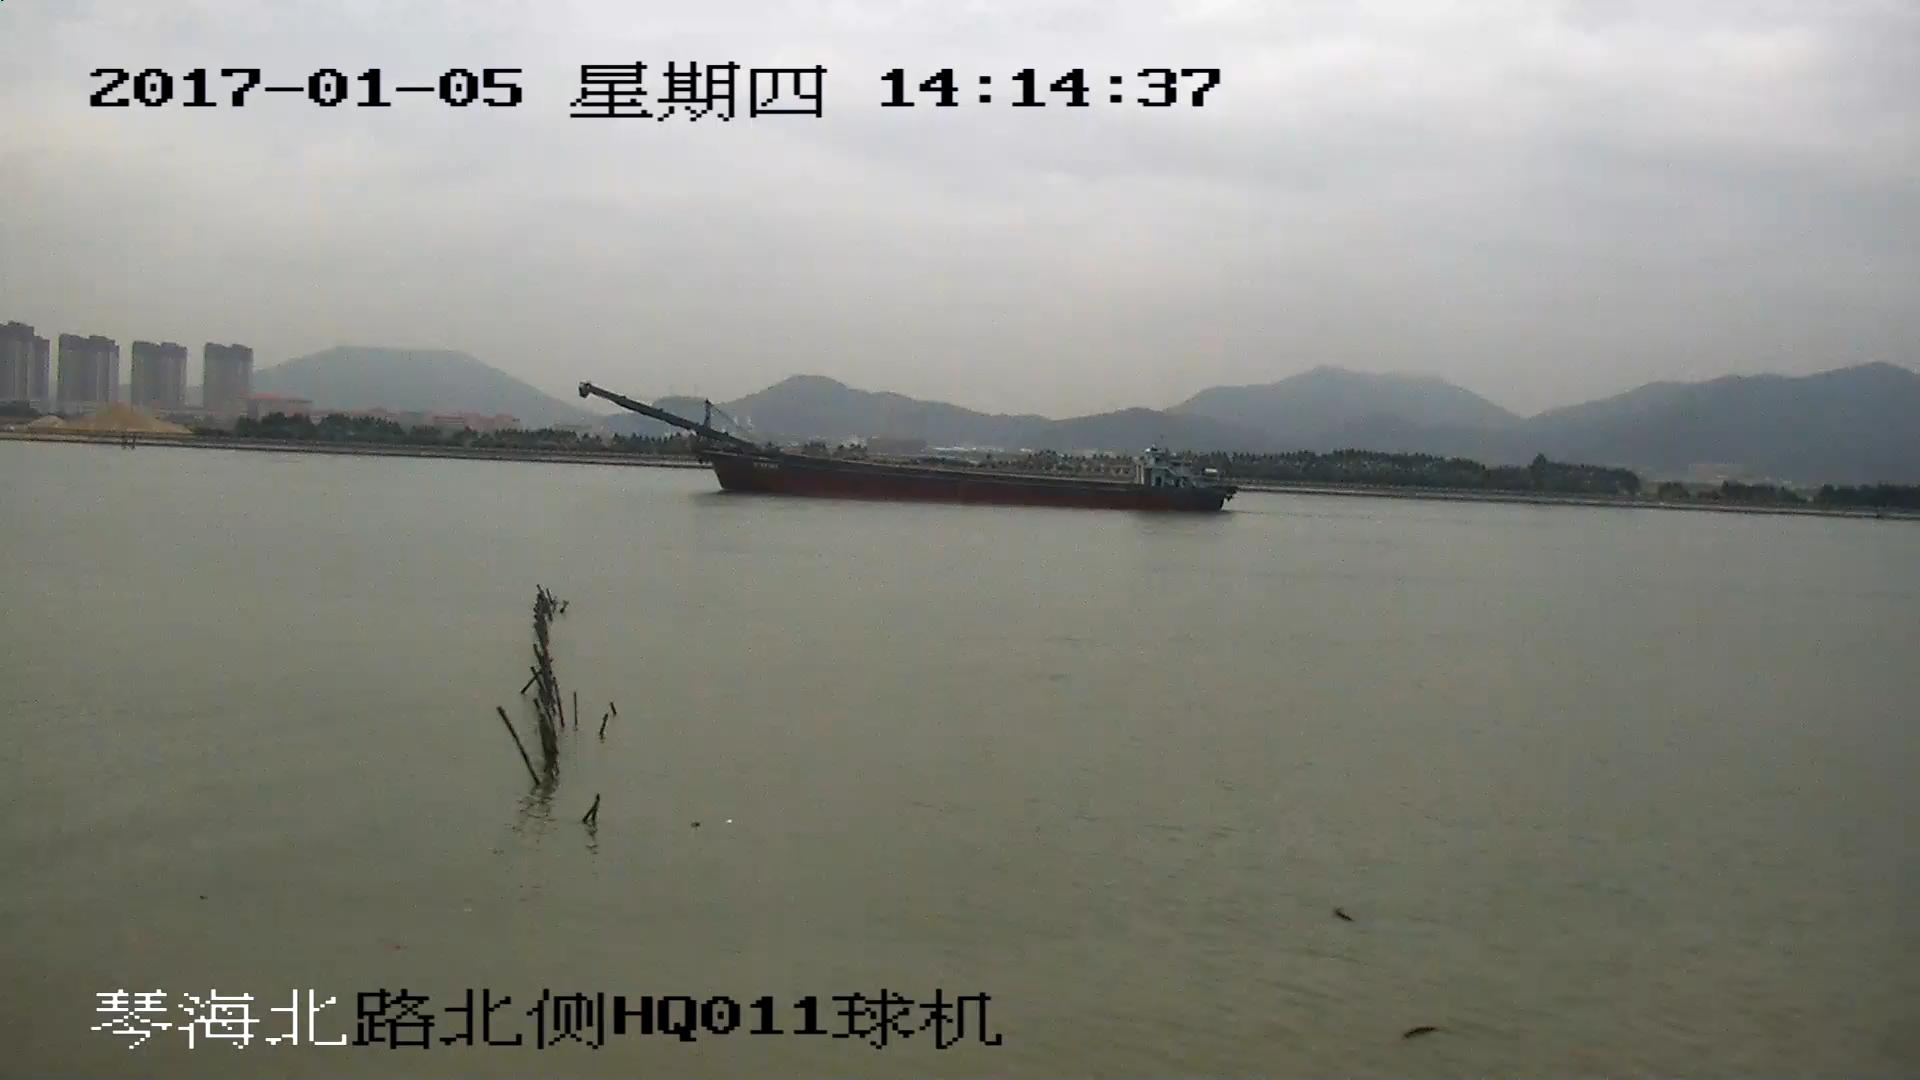bulk cargo carrier: (579, 386, 1232, 516)
